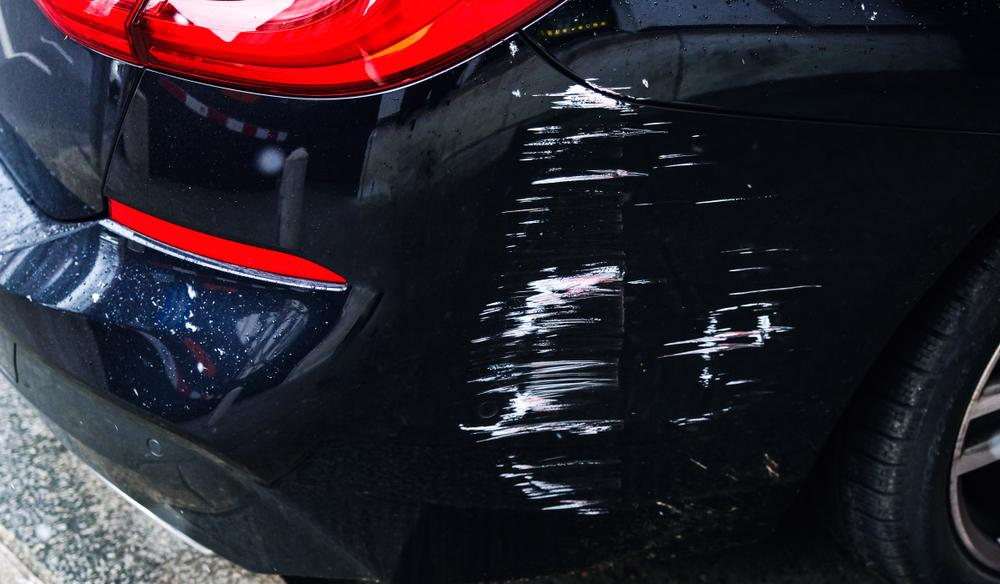scratch: (460, 65, 811, 535)
